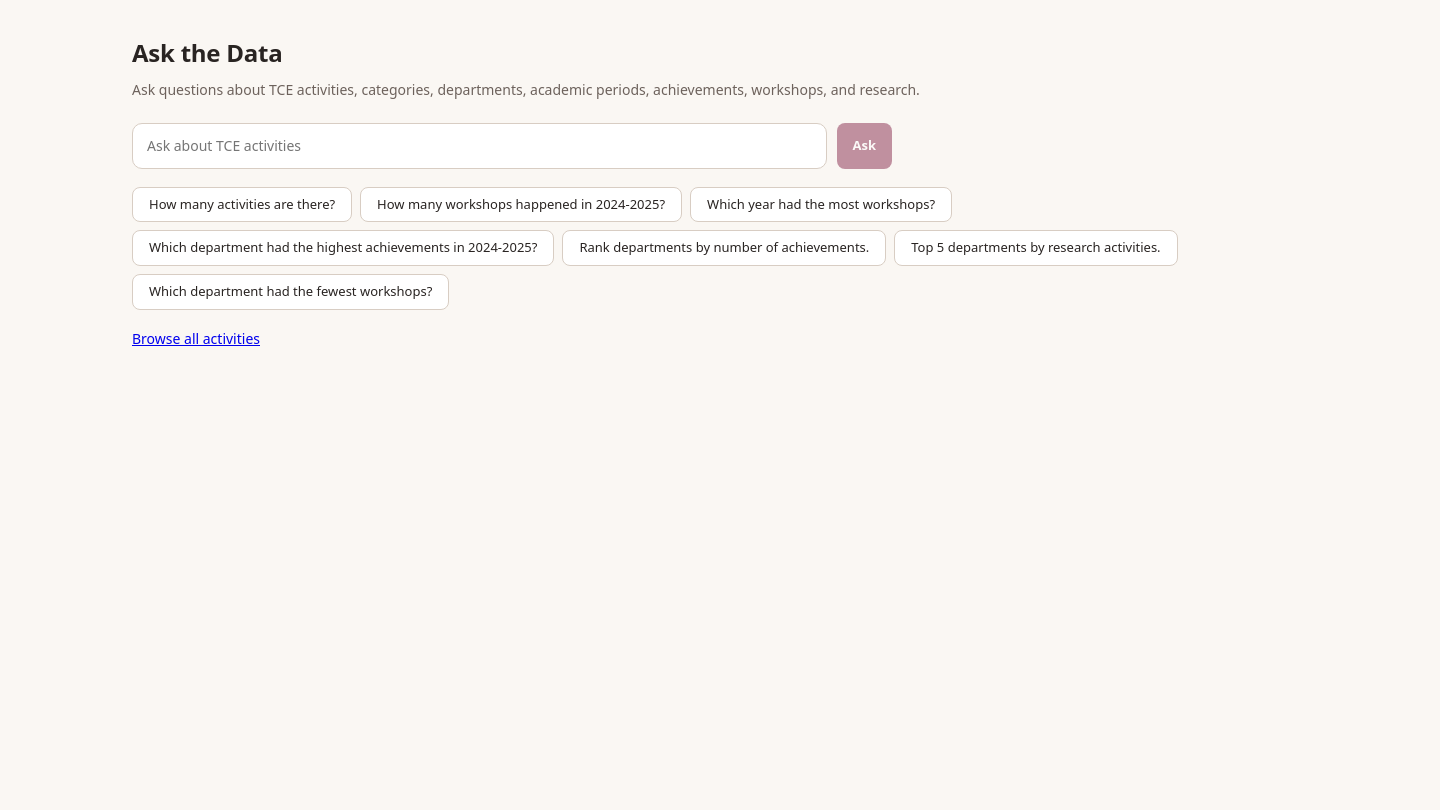
Ask the Data › renders a detail card for a named event
The width and height of the screenshot is (1440, 810).
Click the button "Which year had the most workshops?": (821, 205) [690,187,952,222]
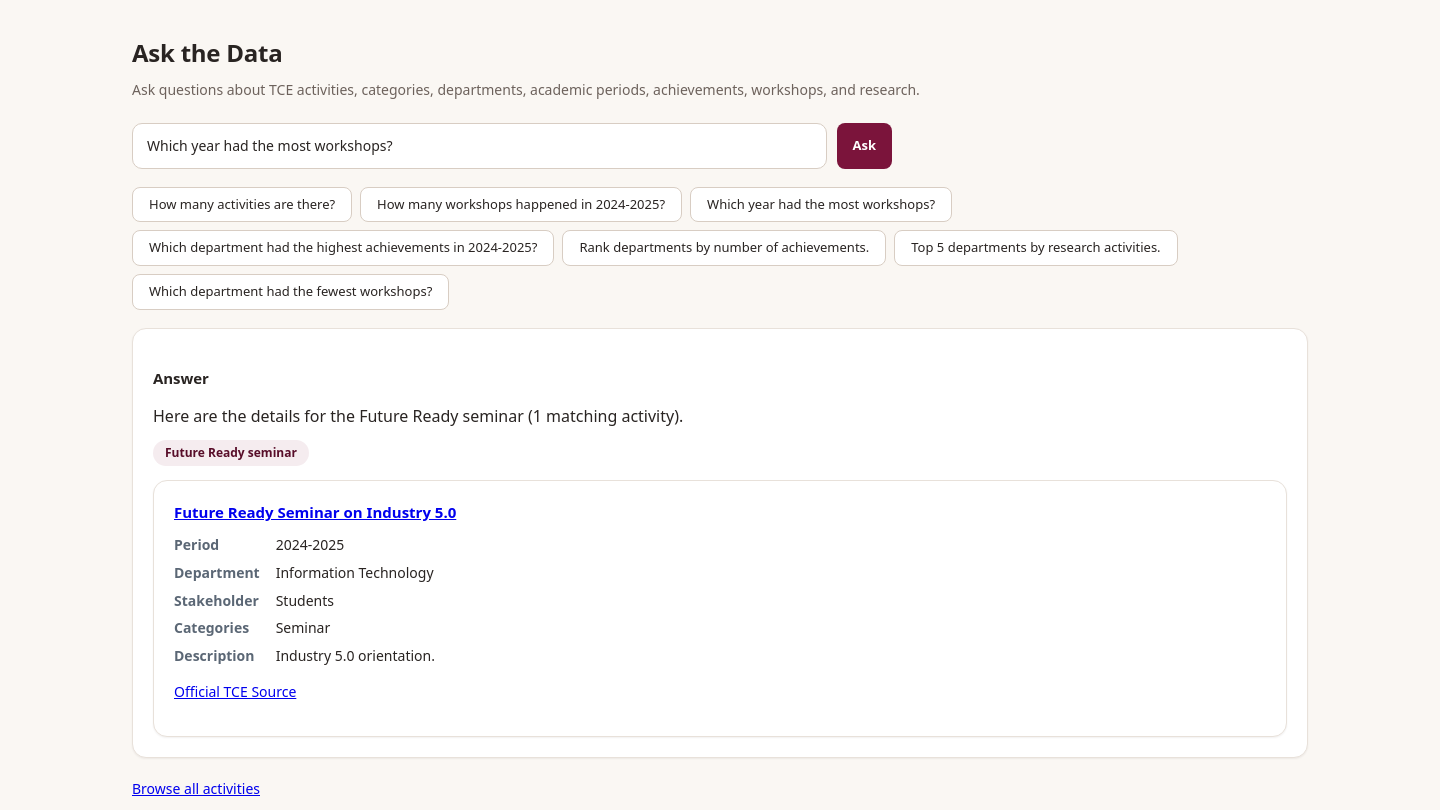
Result: the link "Future Ready Seminar on Industry 5.0" is shown at [174,502,456,522]
Result: the text "2024-2025" is shown at [276,535,344,554]
Result: the text "Industry 5.0 orientation." is shown at [276,646,435,665]
